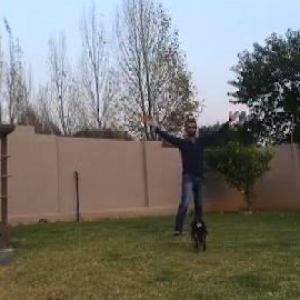takeoff: (131, 110, 230, 233)
